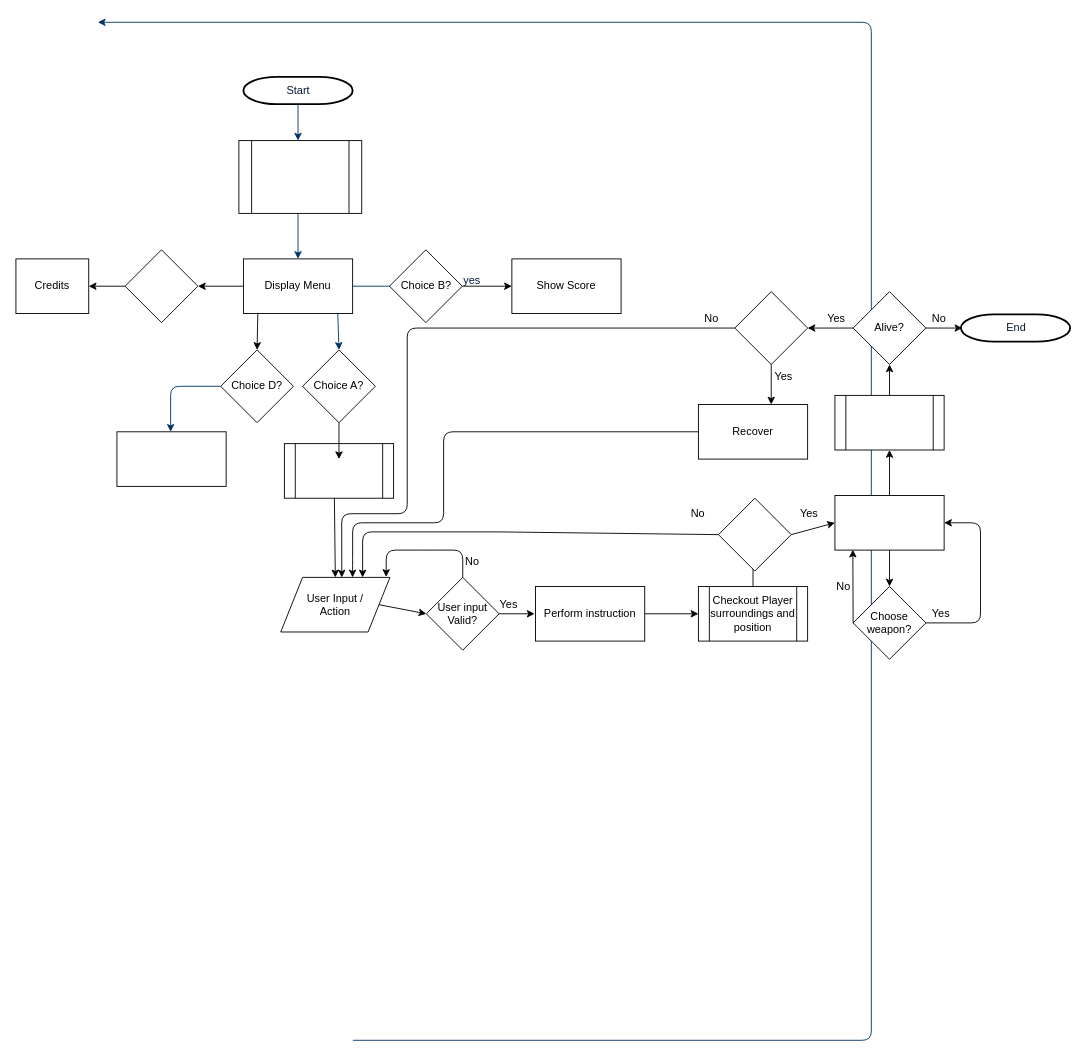
The diagram is 1087 pixels wide and 1064 high, and some of its shapes have lost their labels. Each missing label, with the box of its shape:
Call function GameLoop: (238, 140, 362, 213)
Check Health condition of player: (834, 394, 944, 450)
Choice C: (124, 249, 198, 323)
Enemy?: (718, 497, 791, 571)
Exit Game: (116, 431, 226, 486)
Fight: (834, 495, 944, 550)
Start Game: (283, 443, 394, 498)
Take item?: (734, 291, 808, 364)
